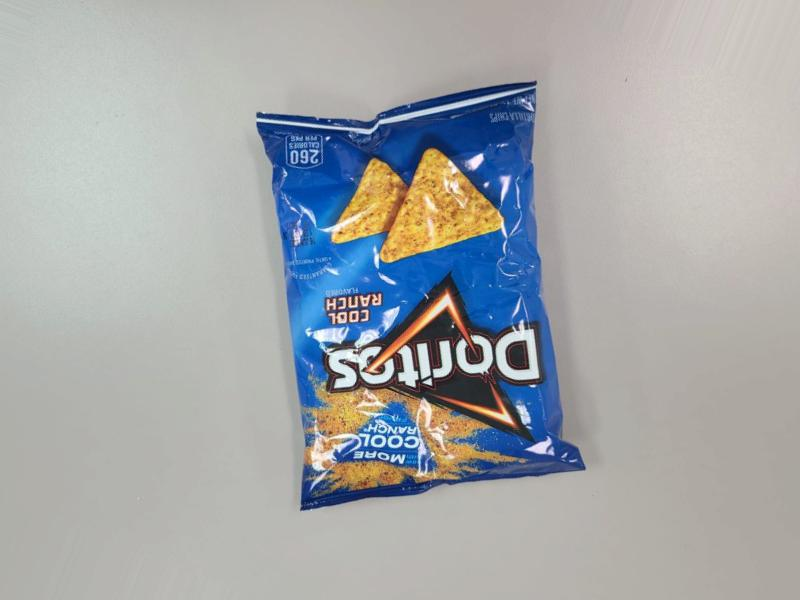doritos: (245, 86, 577, 511)
